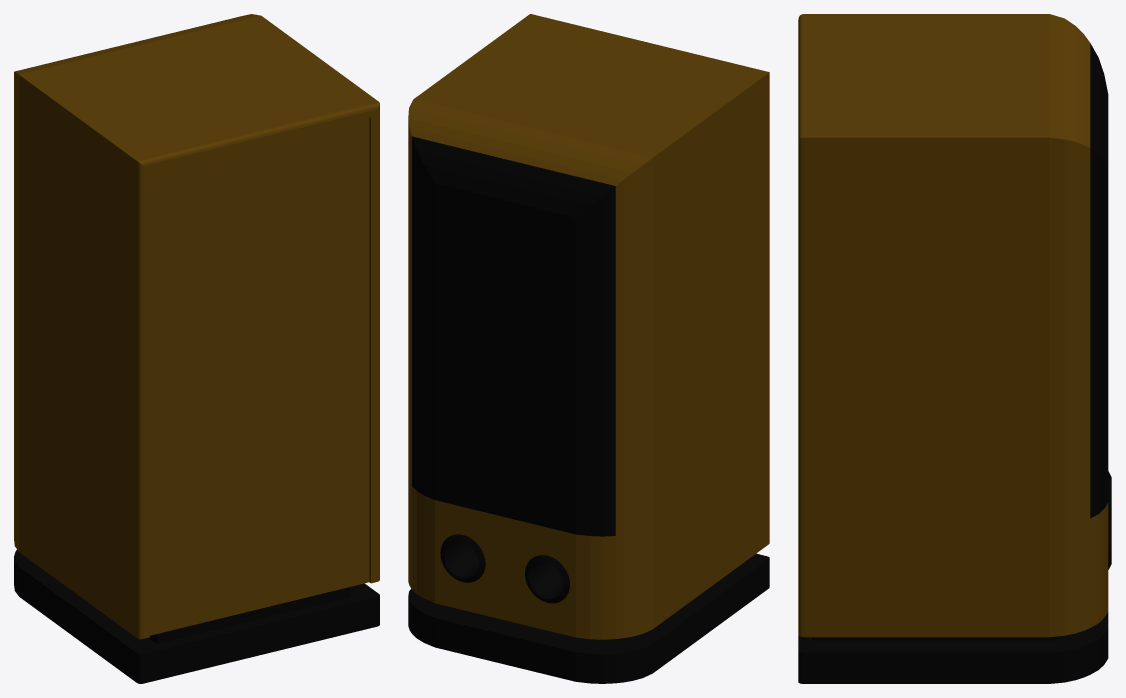
The model's file is Speaker.fbx.
3 renders of one model, left to right at view 1: azimuth 30°, elevation 25°; view 2: azimuth 150°, elevation 25°; view 3: azimuth 270°, elevation 25°, orthographic. The views are drawn at different scales.
Visible parts, largest first — view 1: Speaker; view 2: Speaker; view 3: Speaker.
Boxes of the visible parts, <box> form: Speaker: <box>14,14,379,683</box>; Speaker: <box>408,14,769,683</box>; Speaker: <box>798,14,1111,683</box>.
Size of the model in its own units: 17 by 35 by 18.2.
